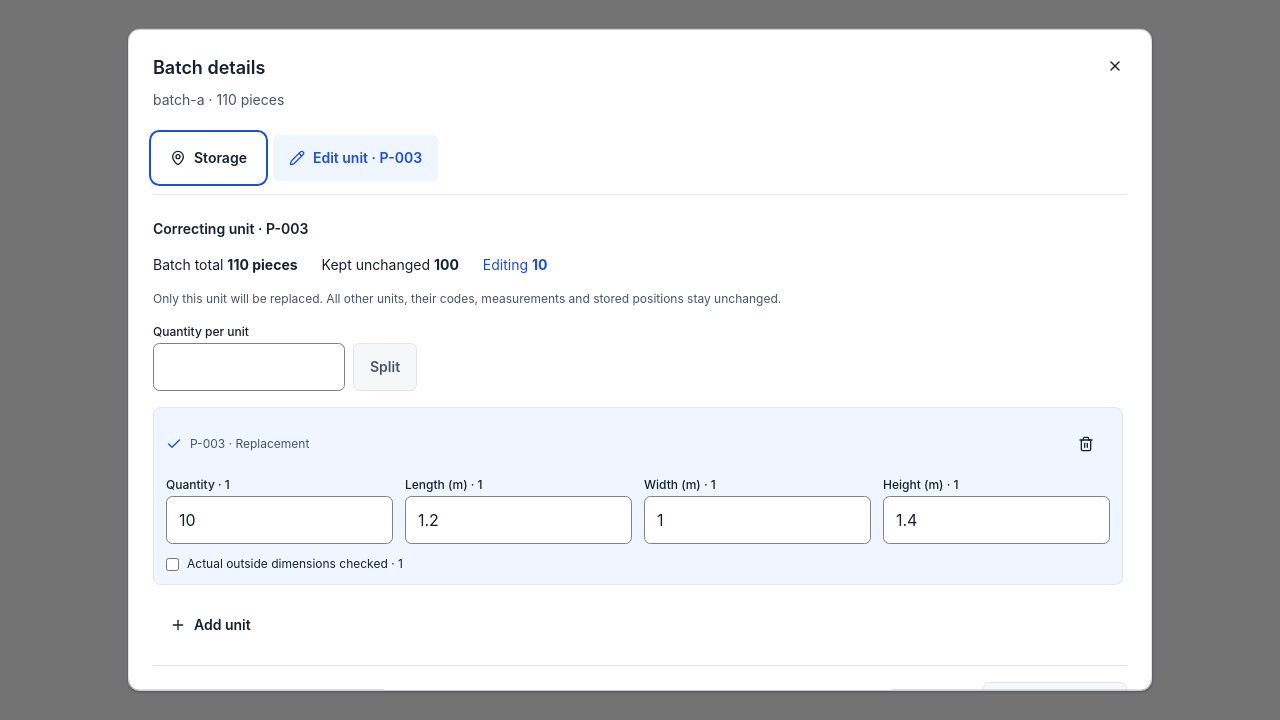
keeps new split rows distinct from original unit codes
In the number field labelled "Quantity per unit": [249, 367] box x1=153 y1=343 x2=345 y2=391, type "5"
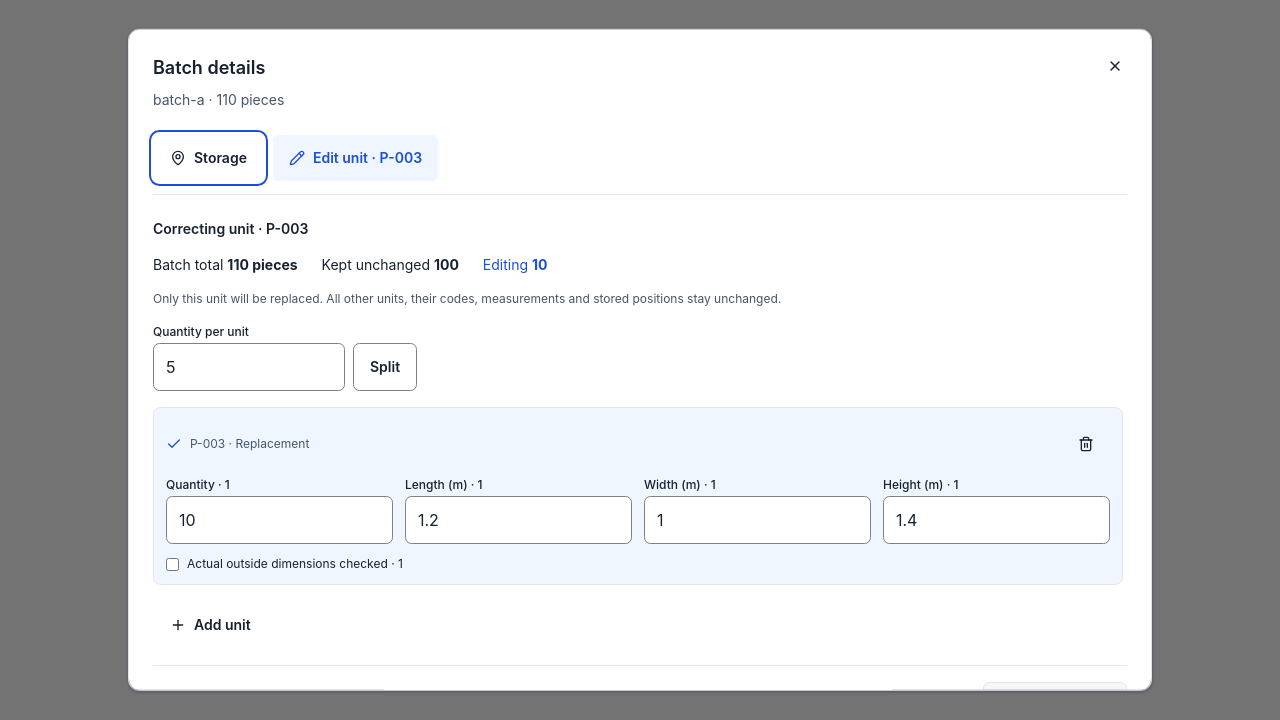
Click the button "Split": [385, 367] box x1=353 y1=343 x2=417 y2=391
(page scrolled)
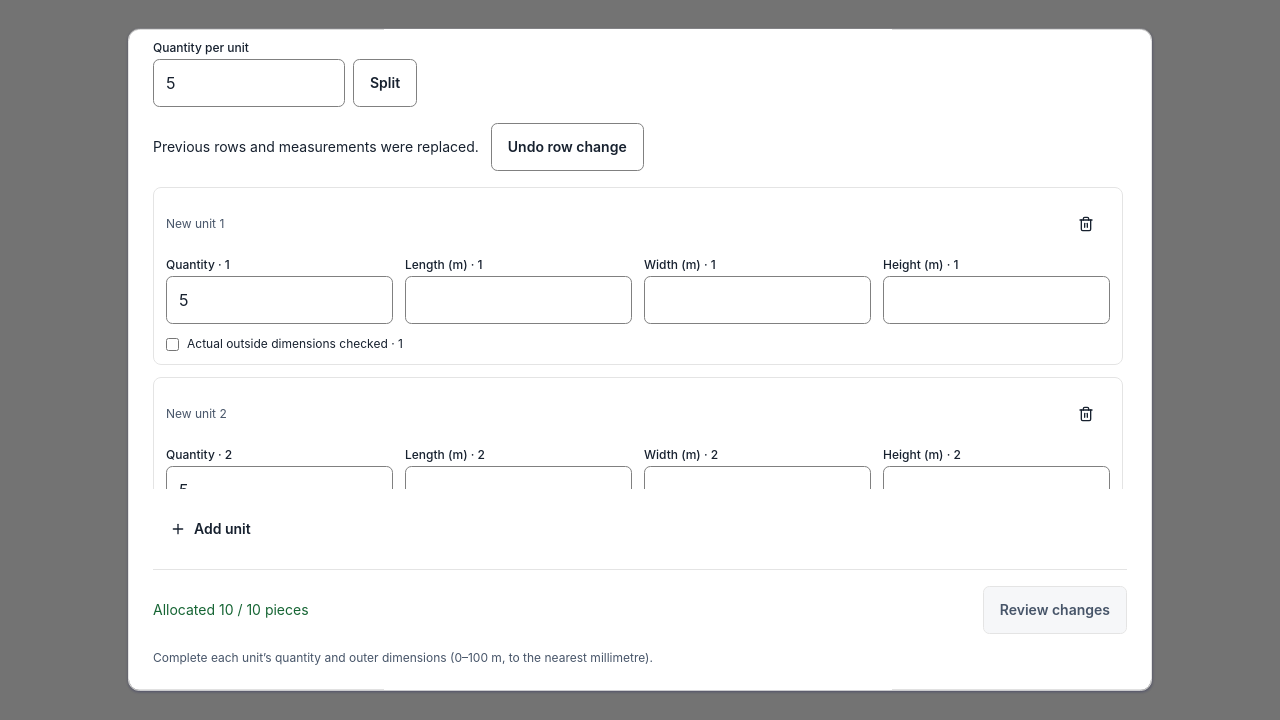
Check: the text "New unit 1" is shown, box x1=166 y1=216 x2=224 y2=232
Check: the text "New unit 2" is shown, box x1=166 y1=406 x2=227 y2=422
Check: the text "P-003 · Replacement" is gone
